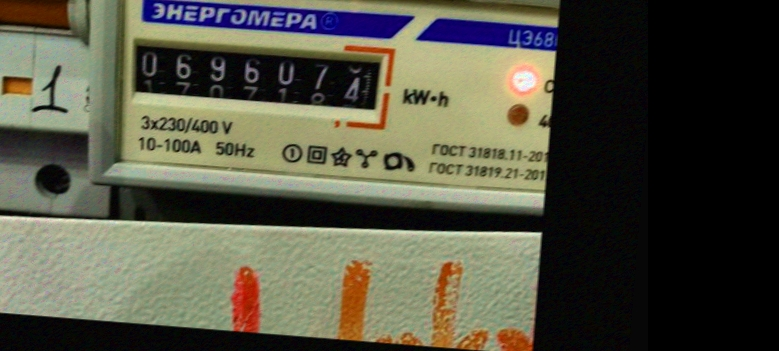0: (138, 47, 160, 77), (274, 57, 295, 85)
4: (341, 74, 361, 103)
6: (241, 54, 261, 83), (172, 51, 192, 79)
7: (309, 59, 330, 91)
9: (206, 53, 226, 83)
screen: (115, 22, 400, 131)
